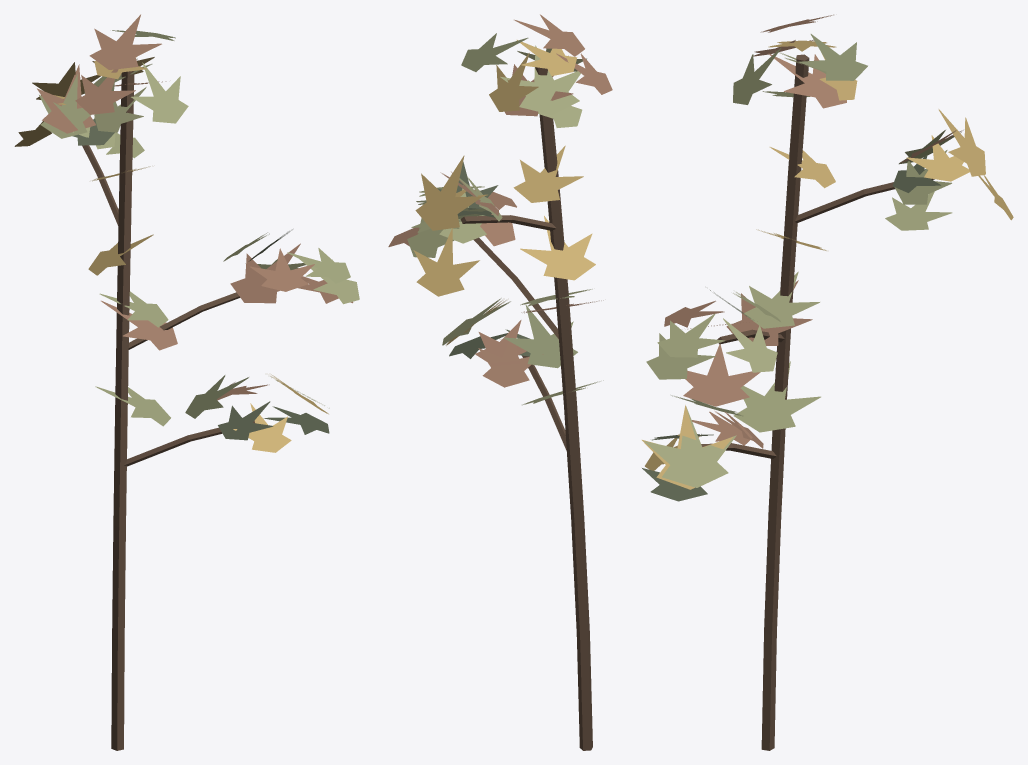
The model's file is sapling_turning.fbx.
3 views of the same model, side by side, from view 1: azimuth 30°, elevation 25°; view 2: azimuth 150°, elevation 25°; view 3: azimuth 270°, elevation 25° (orthographic). The views are drawn at different scales.
Parts seen in each view (by area): view 1: sapling_turning; view 2: sapling_turning; view 3: sapling_turning.
Part boxes in pixels (left/top/right/bottom): sapling_turning: left=14, top=14, right=359, bottom=750; sapling_turning: left=388, top=14, right=612, bottom=750; sapling_turning: left=642, top=14, right=1013, bottom=750.
Size of the model in its own units: 0.4504 by 0.5751 by 1.28.
